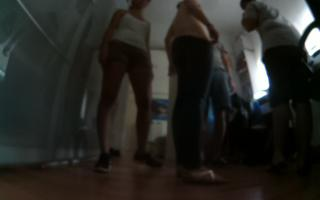person: (238, 1, 320, 188), (166, 1, 242, 190), (90, 1, 164, 178), (201, 36, 237, 166)
